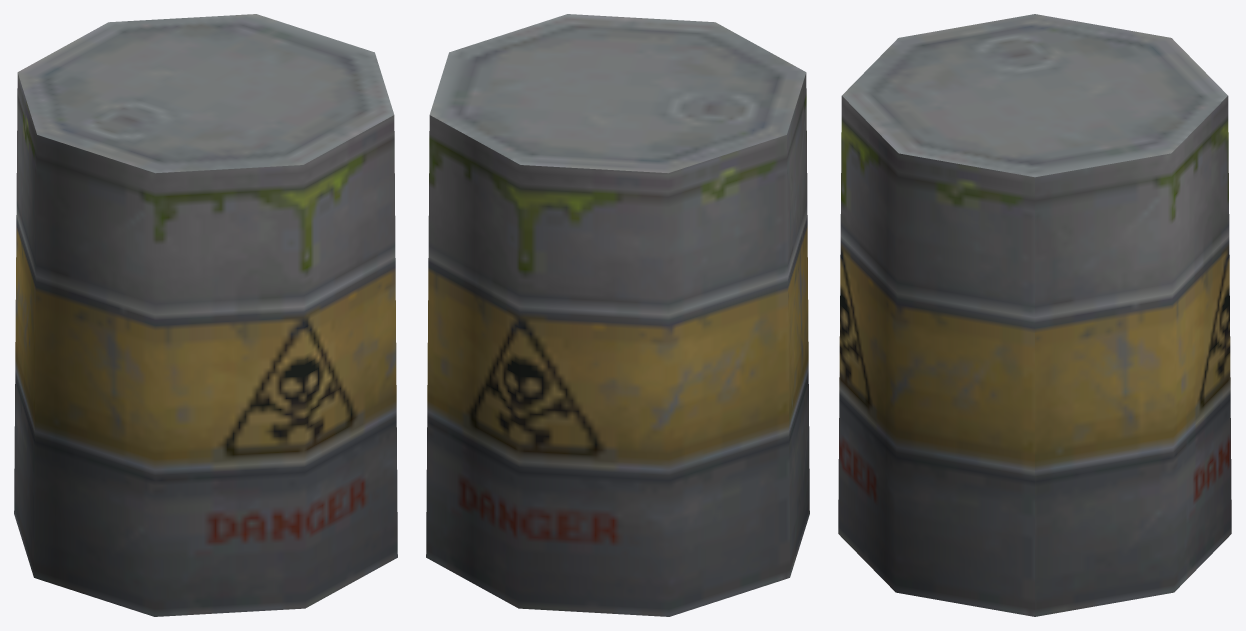
File: toxic_drum.obj
The picture shows the model from 3 angles, left to right: view 1: azimuth 30°, elevation 25°; view 2: azimuth 150°, elevation 25°; view 3: azimuth 270°, elevation 25°; orthographic projection.
Visible parts, largest first — view 1: toxic_drum; view 2: toxic_drum; view 3: toxic_drum.
Boxes of the visible parts, bbox=[...] form: toxic_drum: bbox=[14, 14, 397, 616]; toxic_drum: bbox=[426, 14, 809, 616]; toxic_drum: bbox=[838, 14, 1231, 616].
Size of the model in its own units: 0.814 by 1 by 0.814.
Materials: 1 (1 with a texture image).
